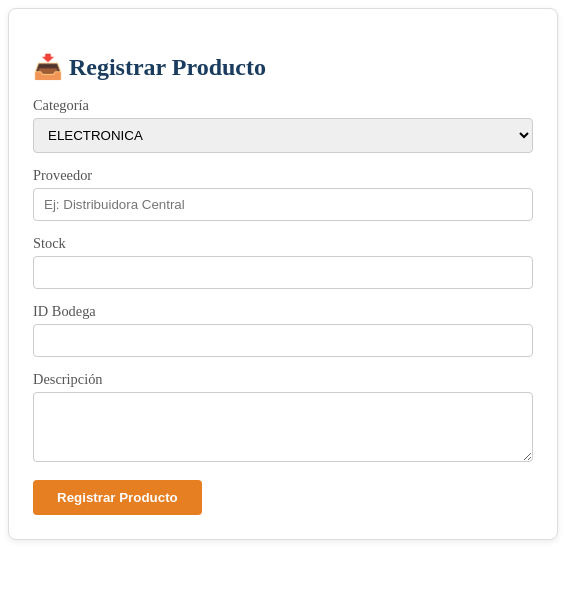
Test case: ProductoForm › muestra mensaje de éxito cuando el producto se registra correctamente
Type "Distribuidora Central" into the field with placeholder "Ej: Distribuidora Central" at (283, 204), box [33,188,533,221]
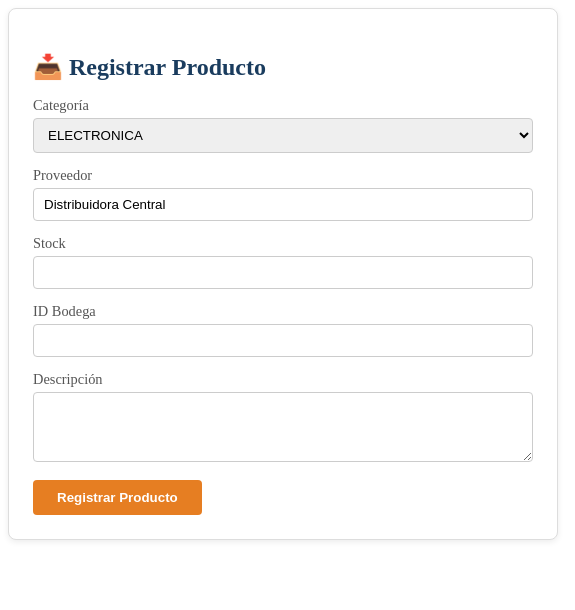
Type "15" into the number field below "Stock" at (283, 272), box [33,256,533,289]
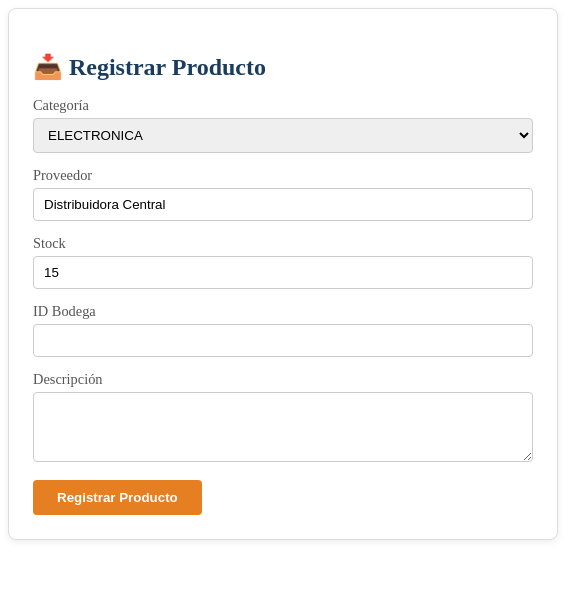
Type "2" into the number field below "ID Bodega" at (283, 340), box [33,324,533,357]
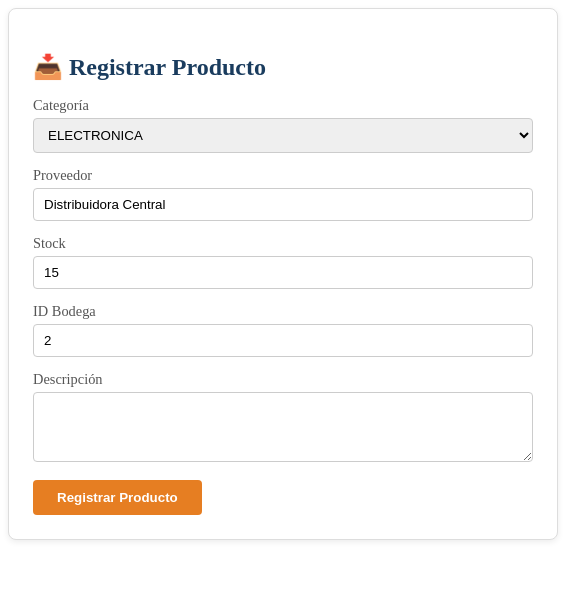
Click the button "Registrar Producto" at (117, 497), box [33,480,202,515]
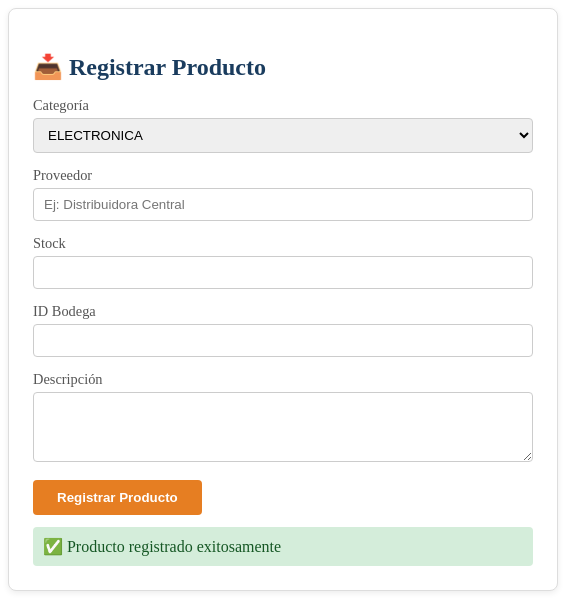
Result: the text "✅ Producto registrado exitosamente" is shown at [33,527,533,566]
